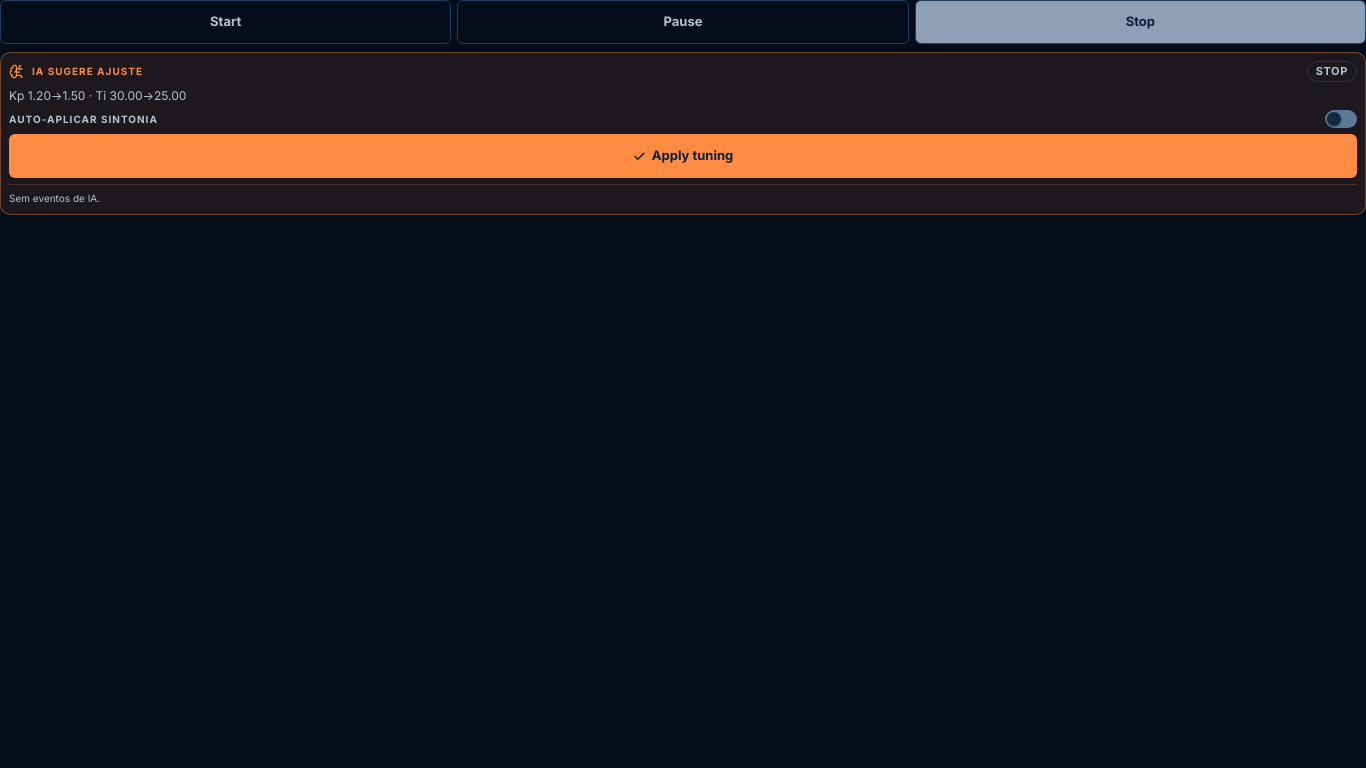
Test: AiPanel › keeps the dialog open and shows why when the write is rejected
The width and height of the screenshot is (1366, 768).
What coordinates should you click on to do the following:
click the button "Apply tuning"
I would click on:
 (683, 156)
Its box is [9,134,1357,178].
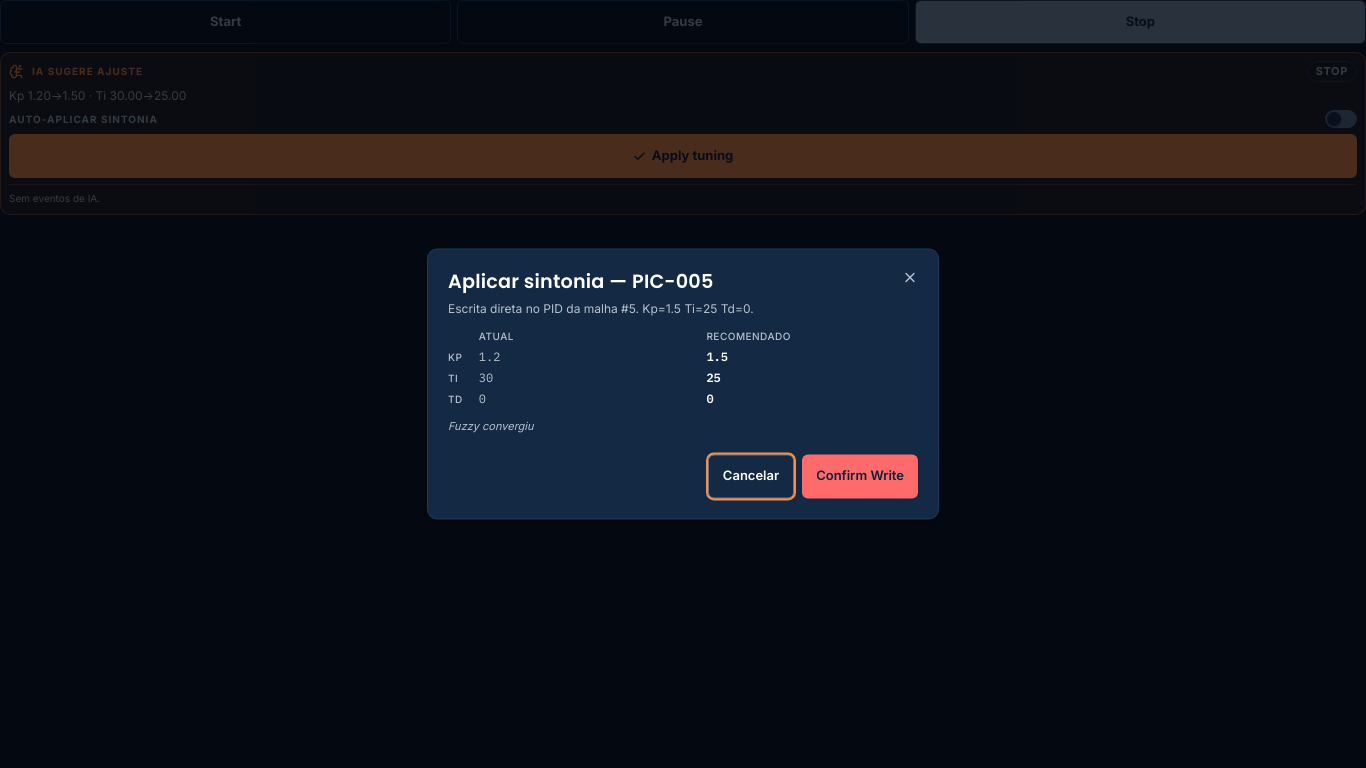
What coordinates should you click on to do the following:
click the button "Confirm Write"
I would click on:
 (860, 476)
Its box is [802,454,918,498].
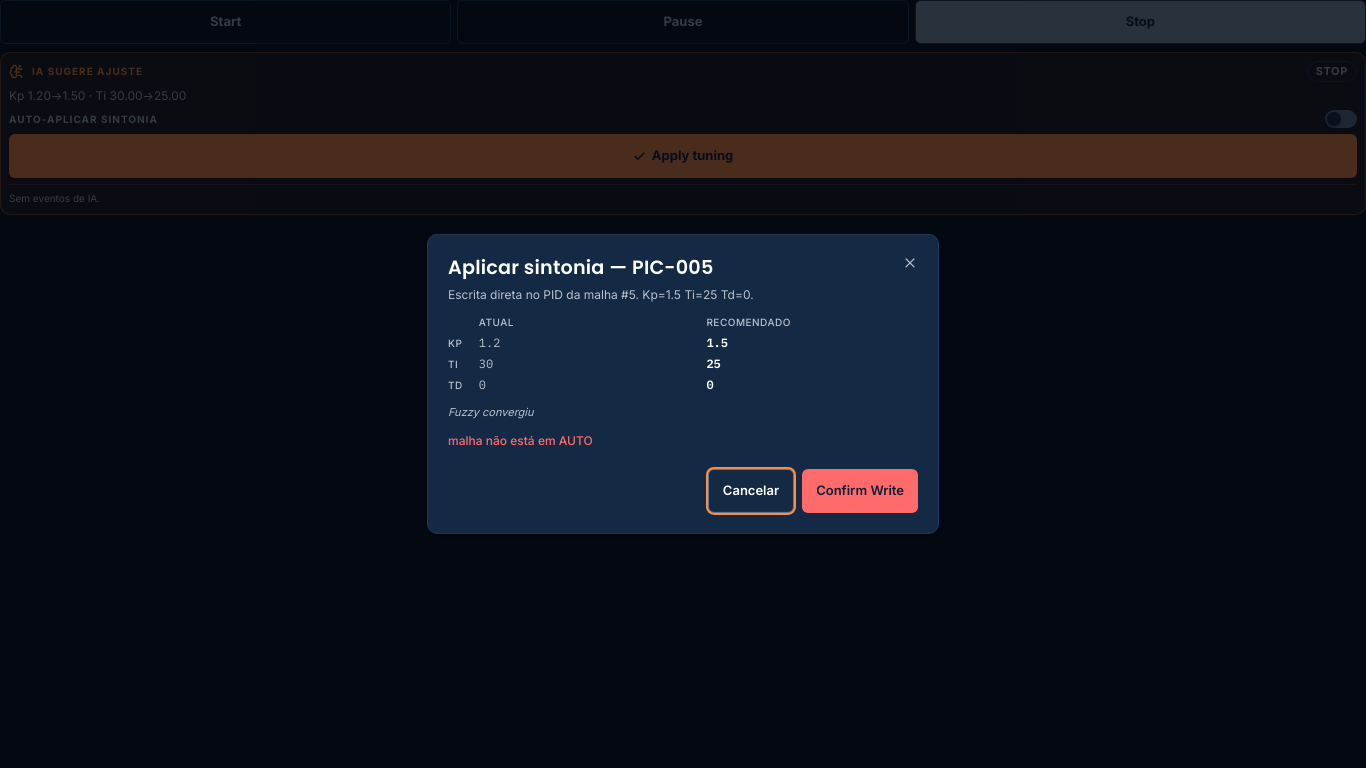
expect the dialog is shown: met, box [427,234,939,534]
expect the message reads "malha não está em AUTO": met, box [448,433,593,448]
